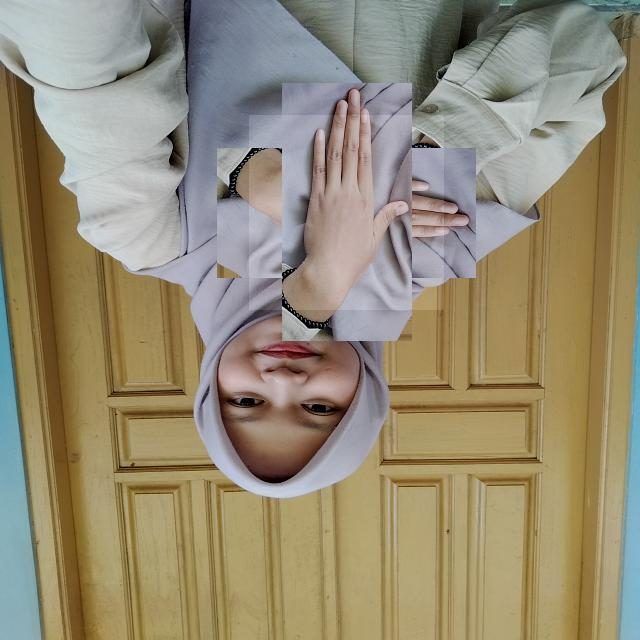tolong: (249, 115, 444, 310)
